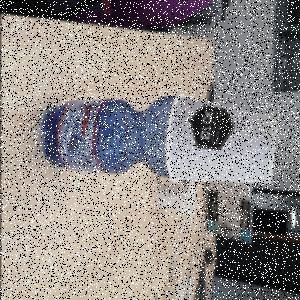Cup: (164, 94, 278, 187), (158, 183, 196, 219)
Plastic-bottle: (41, 99, 165, 177)
